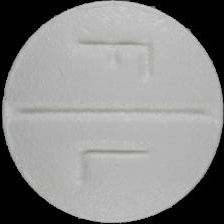55289-768: (0, 0, 224, 224)
